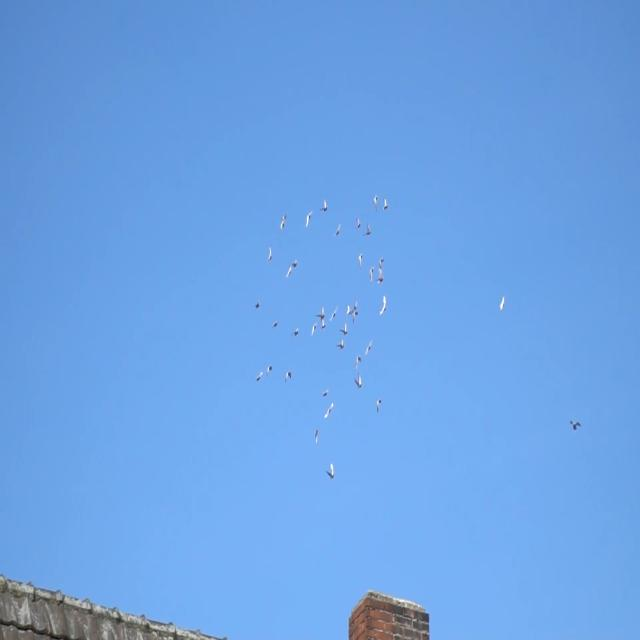bird: (328, 304, 340, 324), (322, 402, 335, 420), (370, 192, 380, 214), (379, 294, 388, 318), (362, 221, 373, 239), (364, 338, 375, 356), (569, 417, 582, 432), (498, 293, 508, 312), (325, 463, 336, 480), (381, 196, 391, 214), (354, 372, 363, 392), (319, 198, 330, 214), (316, 305, 327, 320), (305, 210, 314, 228), (279, 214, 288, 232), (354, 352, 363, 370), (376, 271, 387, 285), (352, 301, 359, 323), (377, 254, 386, 271), (333, 223, 343, 238), (339, 321, 349, 336), (366, 264, 374, 282), (374, 397, 383, 413), (336, 337, 346, 351), (357, 252, 365, 269), (310, 320, 318, 337), (256, 369, 264, 385), (313, 428, 320, 446), (354, 216, 362, 230), (285, 265, 293, 279), (268, 245, 274, 263), (291, 326, 300, 338), (284, 370, 293, 382), (266, 365, 274, 378), (271, 318, 279, 330), (344, 303, 352, 315), (320, 319, 327, 332), (322, 388, 331, 398), (292, 258, 299, 268), (255, 301, 261, 311)
